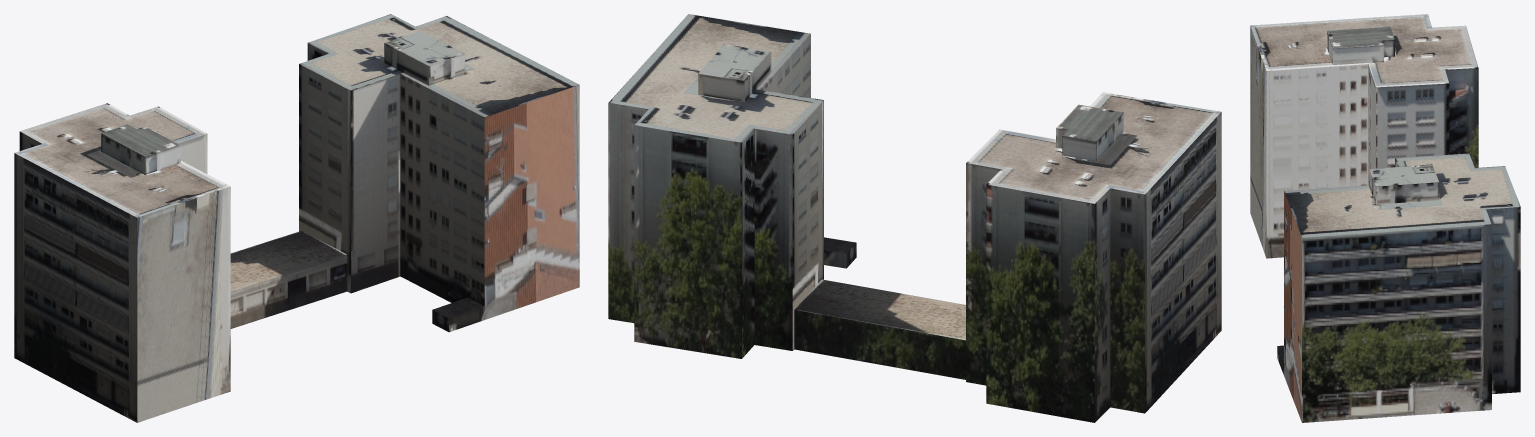
3 renders of one model, left to right at view 1: azimuth 30°, elevation 25°; view 2: azimuth 150°, elevation 25°; view 3: azimuth 270°, elevation 25°, orthographic. The views are drawn at different scales.
Parts seen in each view (by area): view 1: Z_UP; view 2: Z_UP; view 3: Z_UP.
Part boxes in pixels (box(x1,y1,x2,y2)): Z_UP: box(14, 14, 579, 422); Z_UP: box(608, 14, 1221, 422); Z_UP: box(1250, 14, 1520, 422).
Bounding box in the file's own units: 67.87 × 29.2 × 35.04.
2 materials, 1 textured.
